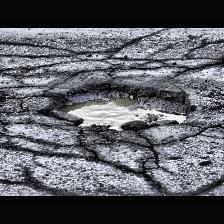pothole: (36, 78, 196, 134)
